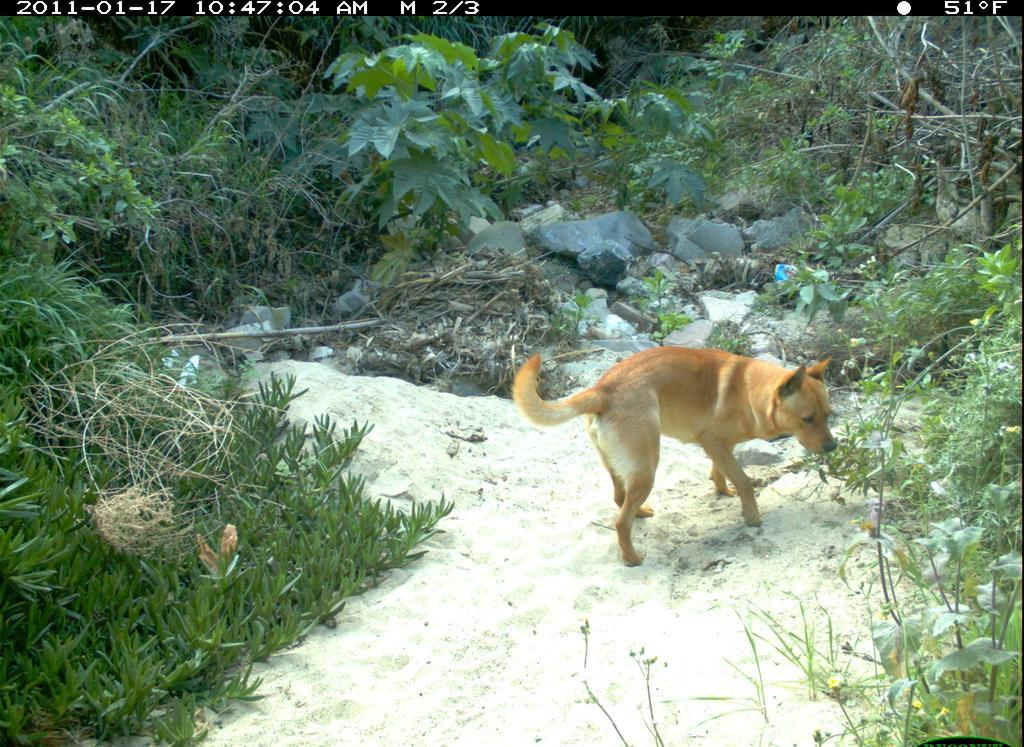dog: (510, 341, 845, 570)
